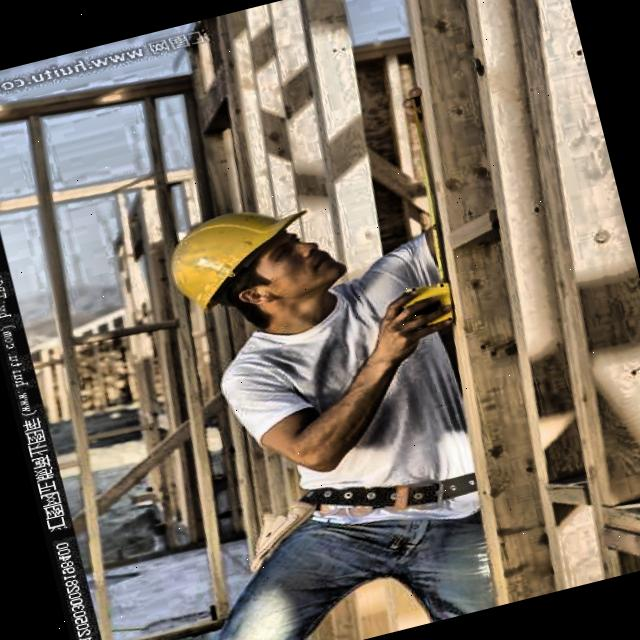helmet: (142, 168, 362, 368)
